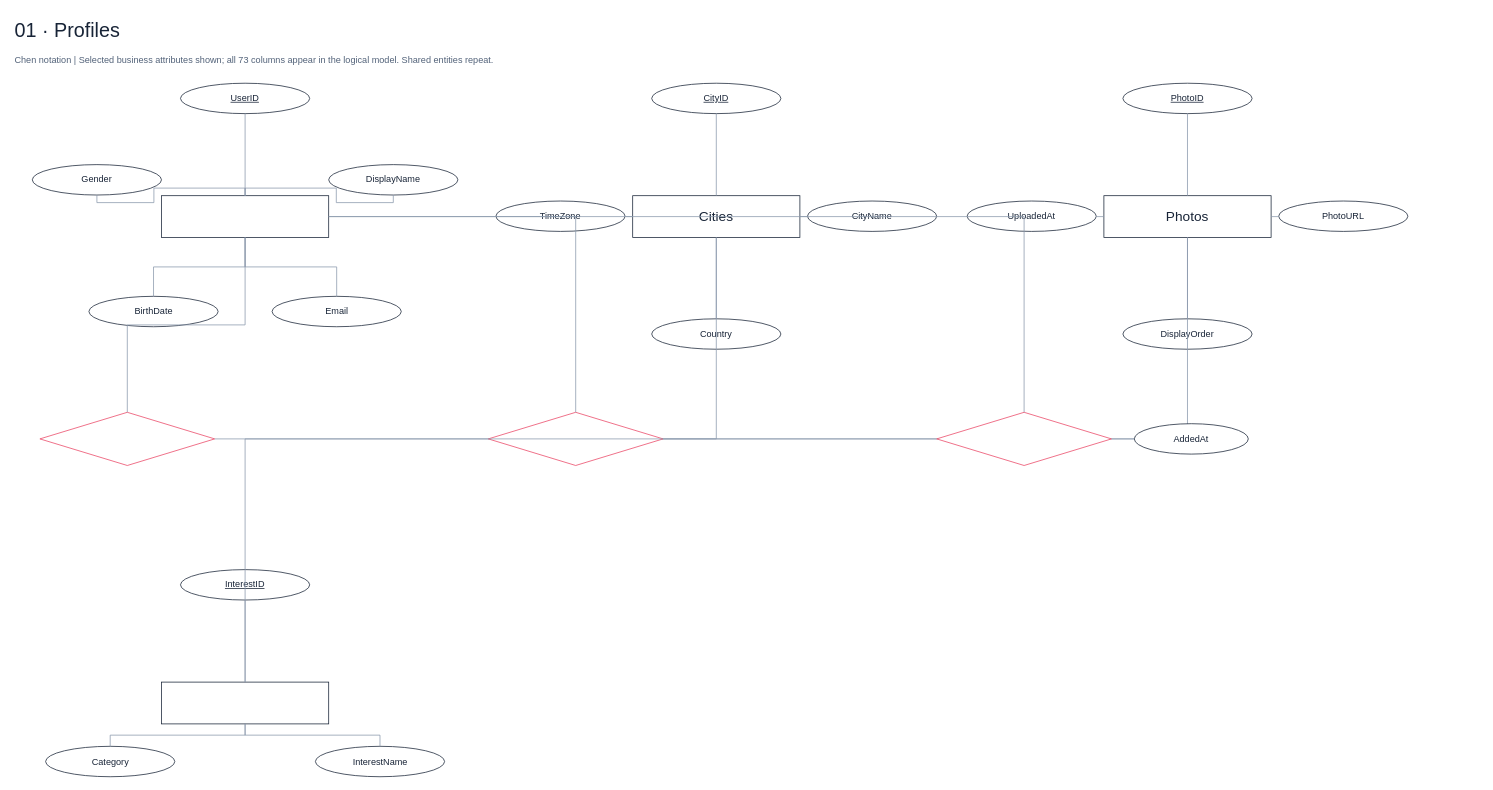
The diagram is 1493 pixels wide and 790 high, and some of its shapes have lost their labels. Here are the shapes that lost their labels. From the top down, the centre of each, then its label:
At point (245, 216): "Users".
At point (127, 439): "lives in N : 1".
At point (575, 439): "owns 1 : N".
At point (1024, 439): "has interest M : N".
At point (245, 702): "Interests".
